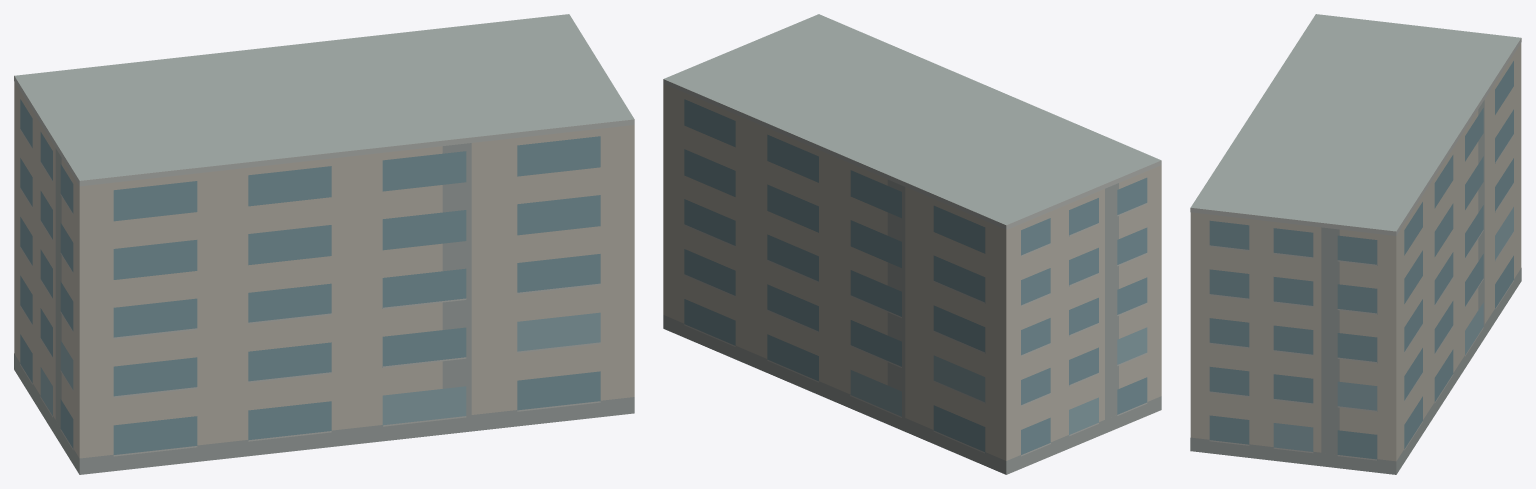
Rendered from residential-04aa5074-d19c-46d5-a9a1-5e18fdf28ee9.glb.
3 renders of one model, left to right at view 1: azimuth 30°, elevation 25°; view 2: azimuth 150°, elevation 25°; view 3: azimuth 270°, elevation 25°, orthographic. The views are drawn at different scales.
Visible parts, largest first — view 1: residential-04aa5074-d19c-46d5-a9a1-5e18fdf28ee9.tmp; view 2: residential-04aa5074-d19c-46d5-a9a1-5e18fdf28ee9.tmp; view 3: residential-04aa5074-d19c-46d5-a9a1-5e18fdf28ee9.tmp.
Boxes of the visible parts, <box> form: residential-04aa5074-d19c-46d5-a9a1-5e18fdf28ee9.tmp: <box>14,14,634,474</box>; residential-04aa5074-d19c-46d5-a9a1-5e18fdf28ee9.tmp: <box>663,14,1161,474</box>; residential-04aa5074-d19c-46d5-a9a1-5e18fdf28ee9.tmp: <box>1190,14,1521,474</box>.
Size of the model in its own units: 24.92 by 13 by 16.03.
